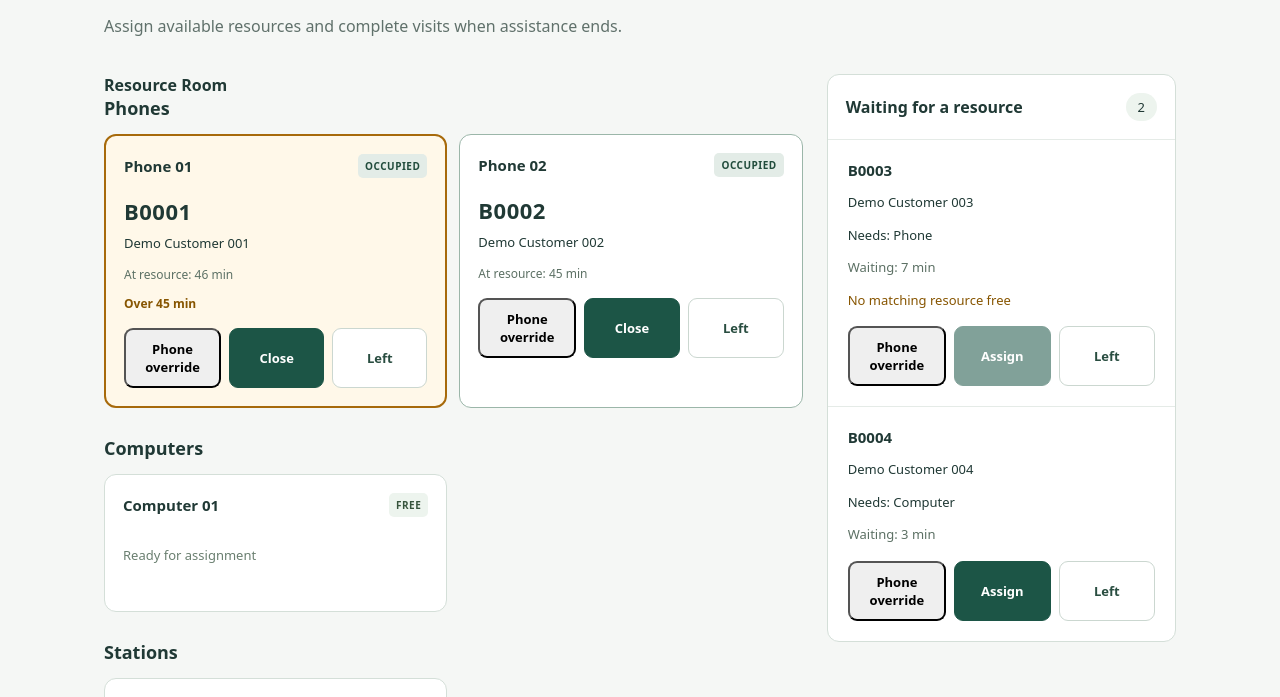
it: close on an occupied tile frees inventory and enables a waiting assignment
(page scrolled)
Click the button with aria-label "Close B0001" at (277, 358), box [229,328,324,388]
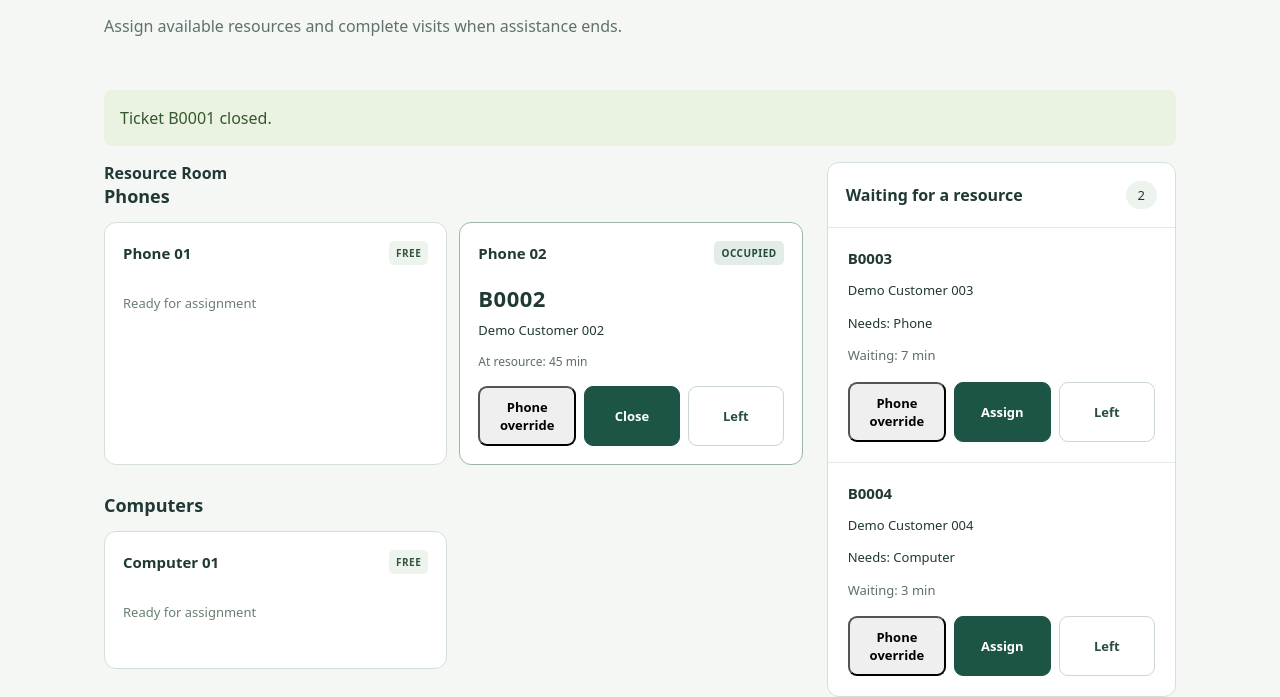
Result: the button with aria-label "Assign B0003" is enabled at [954,382,1051,442]
Result: the text "FREE" in the row of "Phone 01" is shown at [396,246,421,260]
